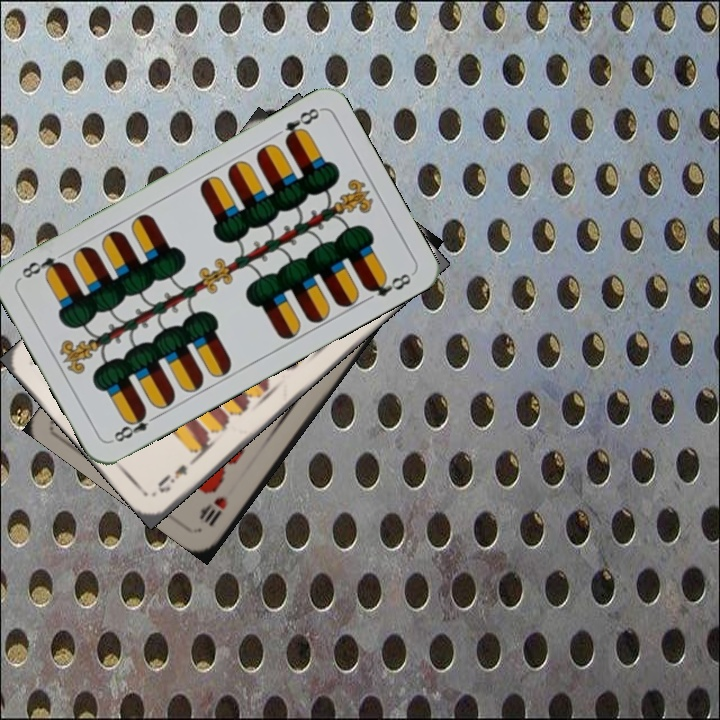E8: (110, 406, 162, 445), (280, 103, 322, 146)
E9: (153, 453, 200, 496)
H10: (197, 492, 230, 530)
